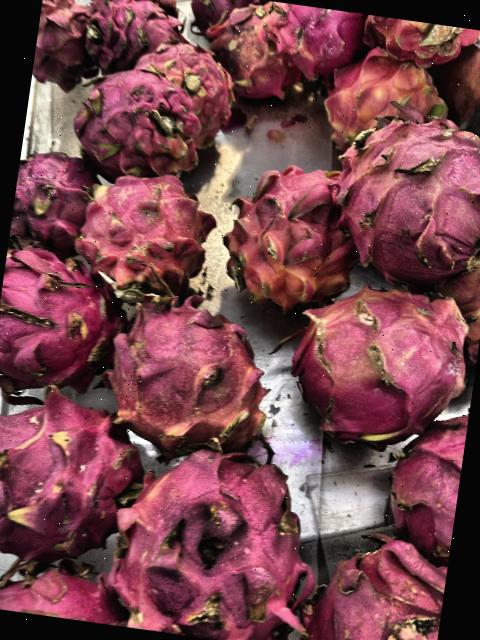buah-naga-belum-matang: (330, 46, 459, 152)
buah-naga-matang: (107, 421, 326, 640), (108, 284, 294, 456), (292, 277, 471, 441), (0, 381, 151, 559), (332, 98, 480, 279), (64, 158, 222, 313), (222, 154, 365, 312), (300, 519, 451, 640), (0, 250, 124, 395), (68, 56, 207, 182), (391, 403, 469, 551), (8, 144, 94, 259), (254, 0, 364, 76), (148, 40, 235, 126), (217, 6, 291, 104), (32, 0, 104, 87), (366, 15, 477, 70), (84, 2, 183, 60), (181, 0, 248, 35)
